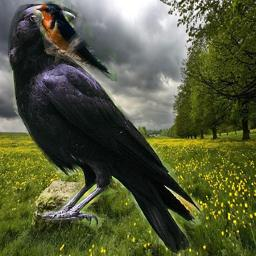Crow: (8, 4, 204, 256)
Swallow: (33, 0, 117, 81)
